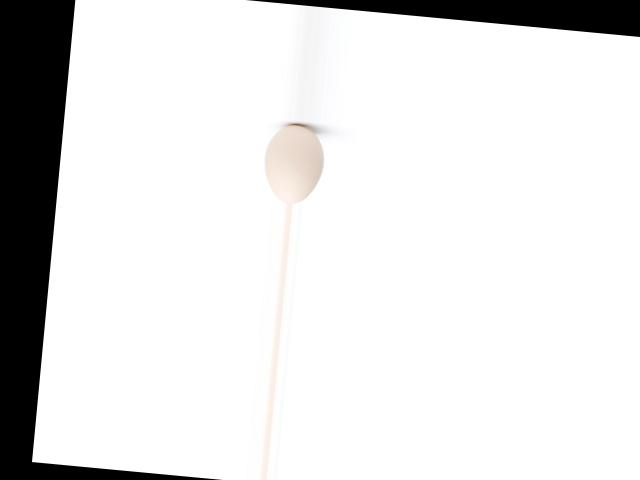egg: (260, 121, 326, 205)
